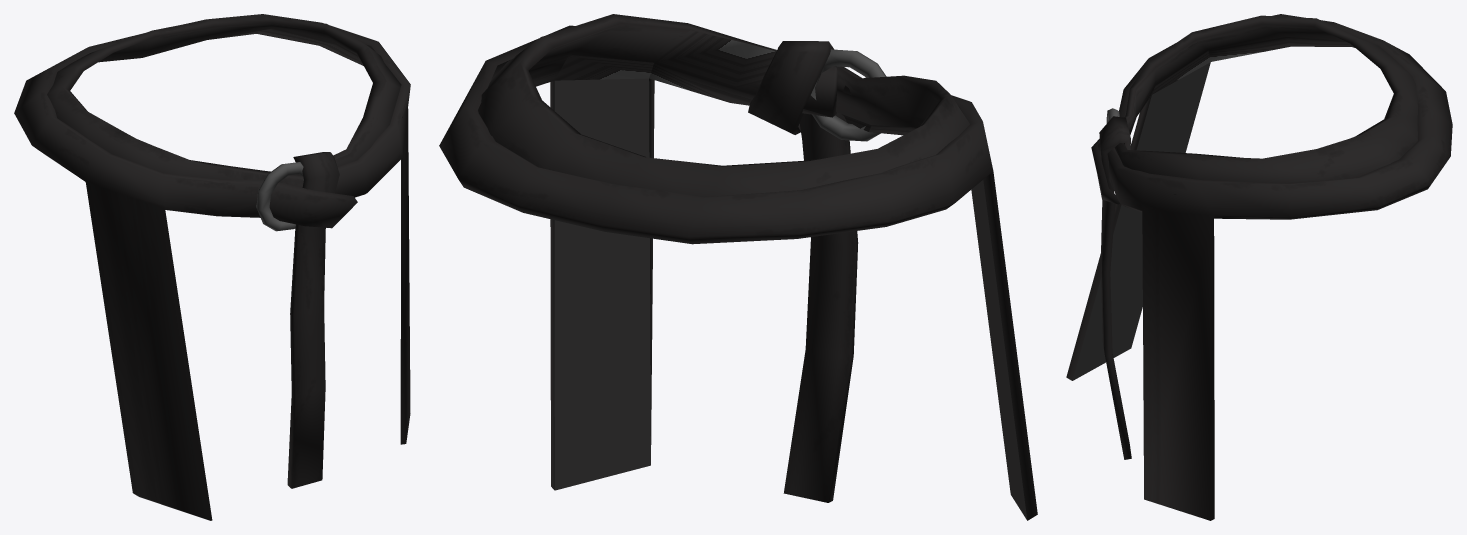
File: Belt.fbx
The picture shows the model from 3 angles, left to right: view 1: azimuth 30°, elevation 25°; view 2: azimuth 150°, elevation 25°; view 3: azimuth 270°, elevation 25°; orthographic projection. The views are drawn at different scales.
Parts seen in each view (by area): view 1: Medieval Belt.obj; view 2: Medieval Belt.obj; view 3: Medieval Belt.obj.
Part boxes in pixels (x1=…): Medieval Belt.obj: x1=14, y1=14, x2=410, y2=520; Medieval Belt.obj: x1=439, y1=14, x2=1037, y2=520; Medieval Belt.obj: x1=1066, y1=14, x2=1452, y2=520.
Bounding box in the file's own units: 34.35 × 33.49 × 32.4.
